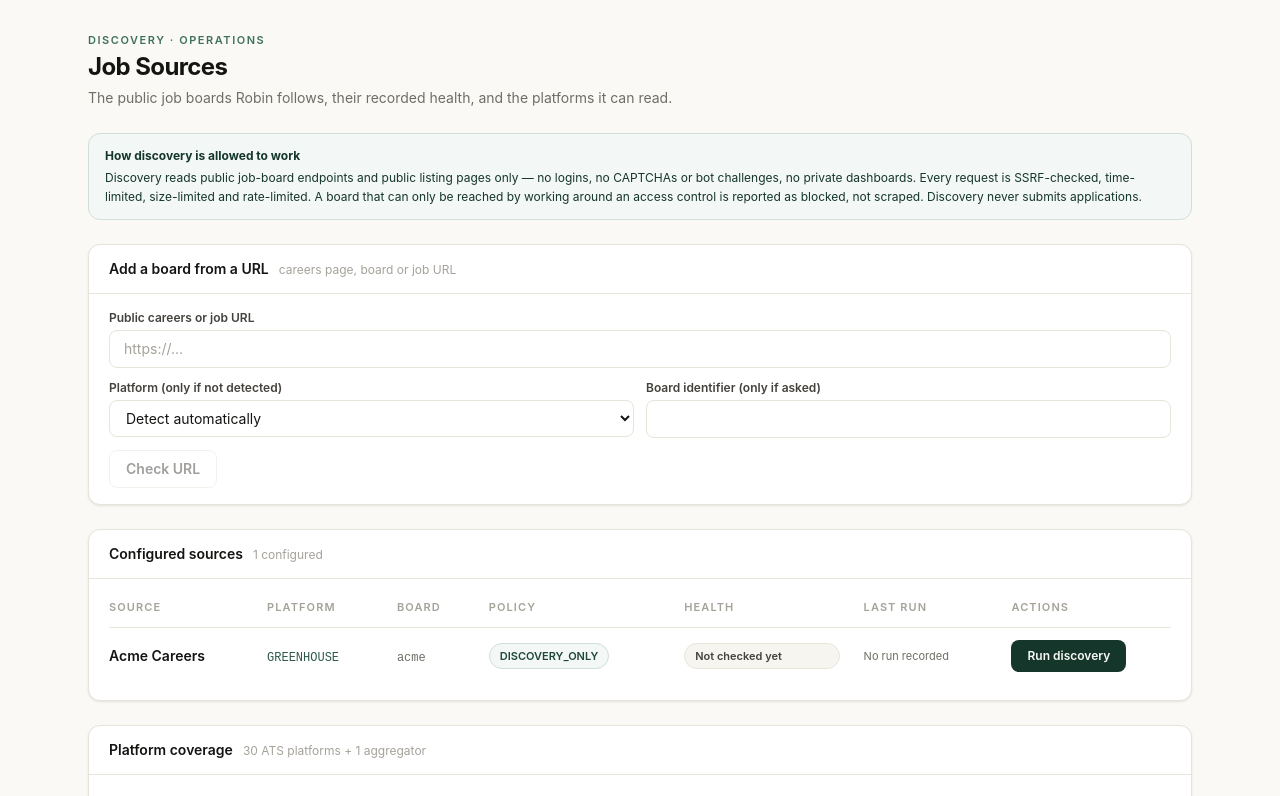
Test: SourcesPage operations view › checks a URL, previews the resolved board and only configures it when confirmed
This screenshot has width=1280, height=796.
Check: the text "Acme Careers" is shown, box [109,647,205,664]
Type "https://boards.greenhouse.io/stripe" into the field labelled "Public careers or job URL" at [640, 349], box [109,330,1171,368]
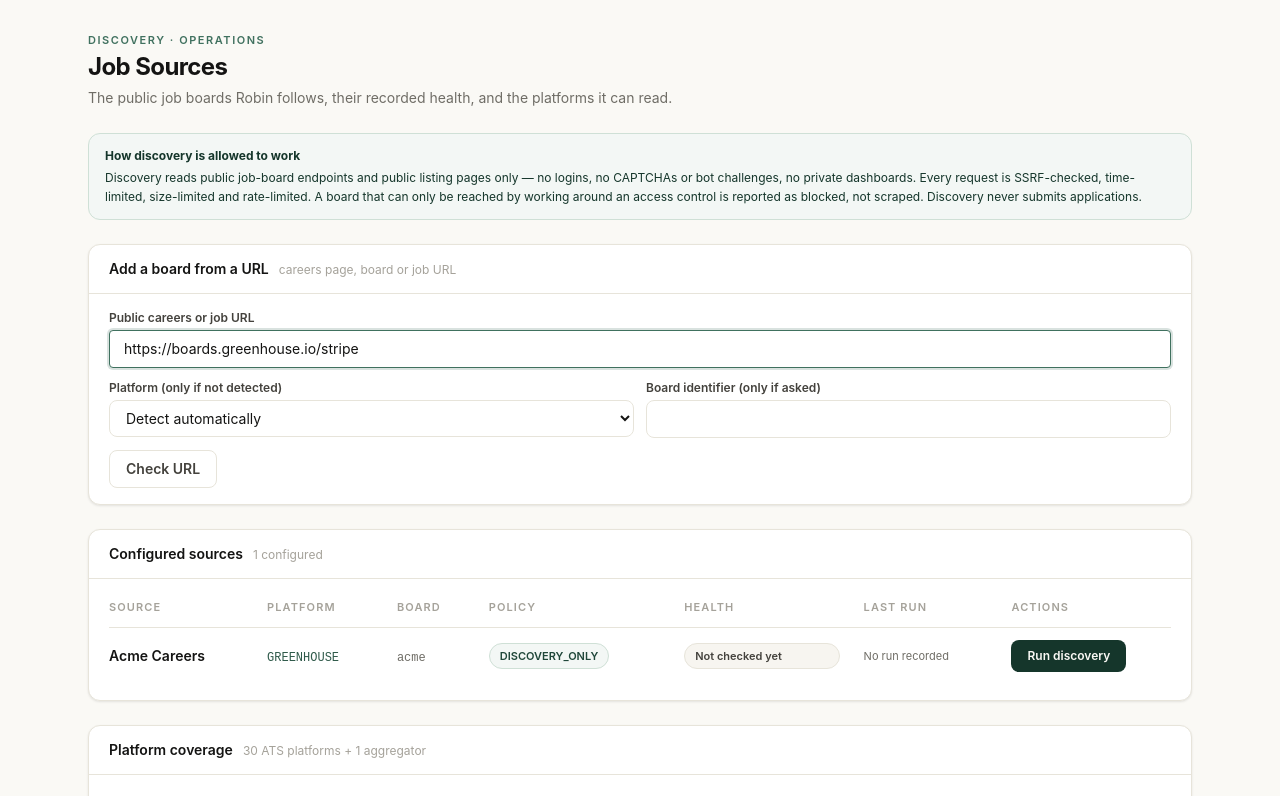
Click the button "Check URL" at [163, 469], box [109,450,217,488]
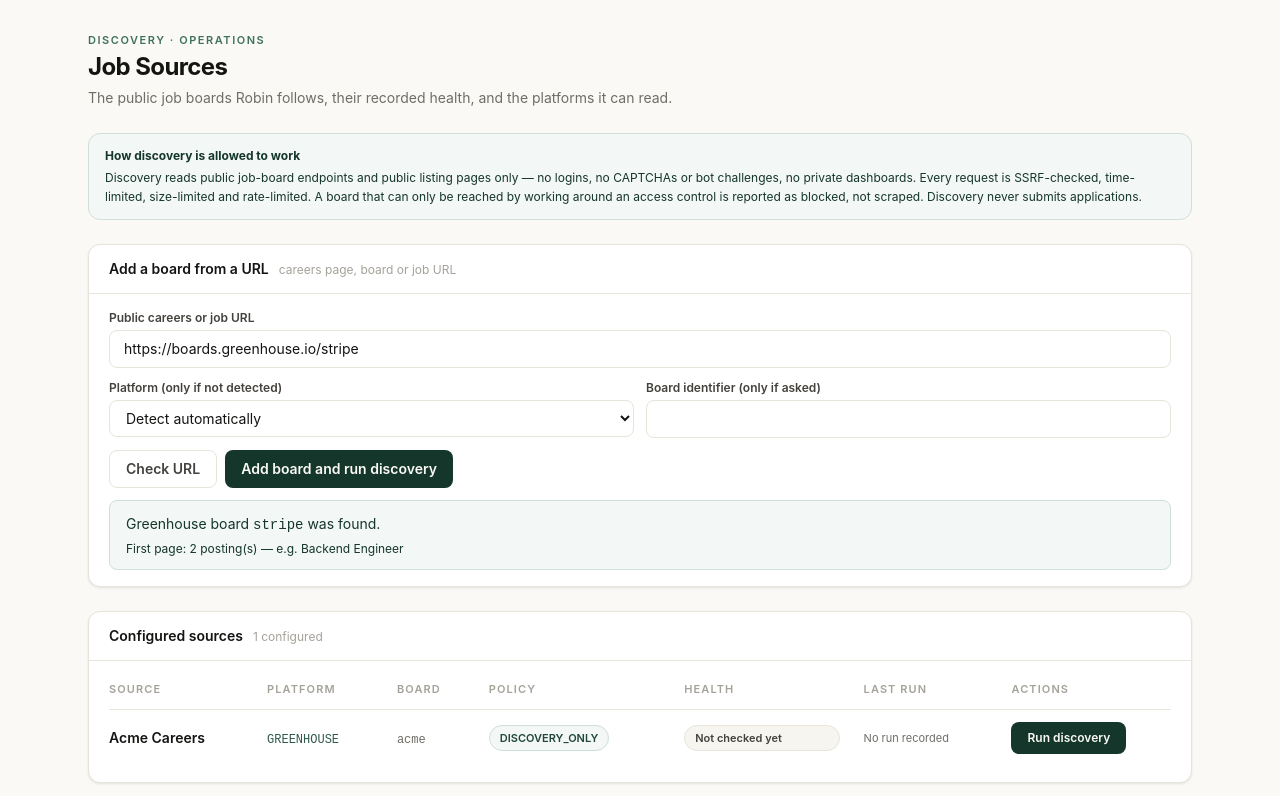
Check: the text "First page: 2 posting(s) — e.g. Backend Engineer" is shown, box [126,540,404,556]
Click the button "Add board and run discovery" at [339, 469], box [225,450,453,488]
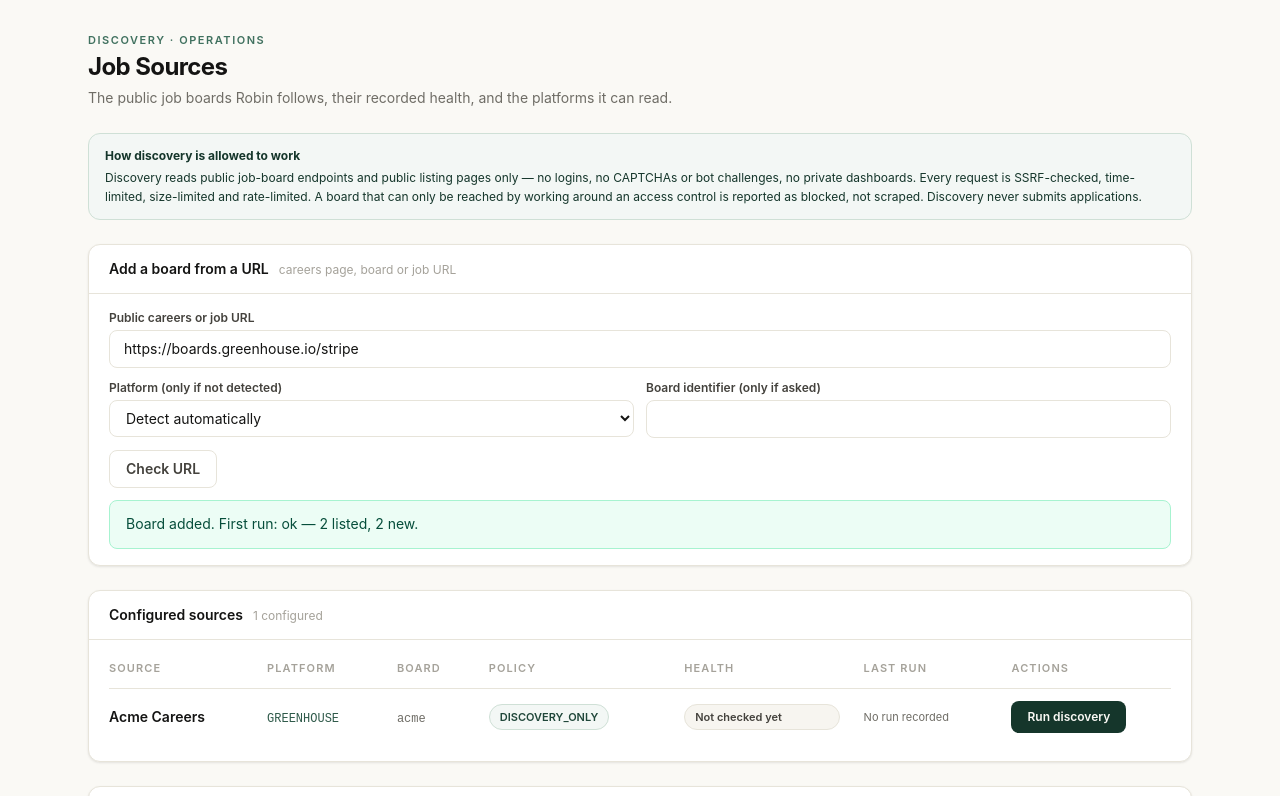
Check: the text "Board added. First run: ok — 2 listed, 2 new." is shown, box [109,500,1171,549]
